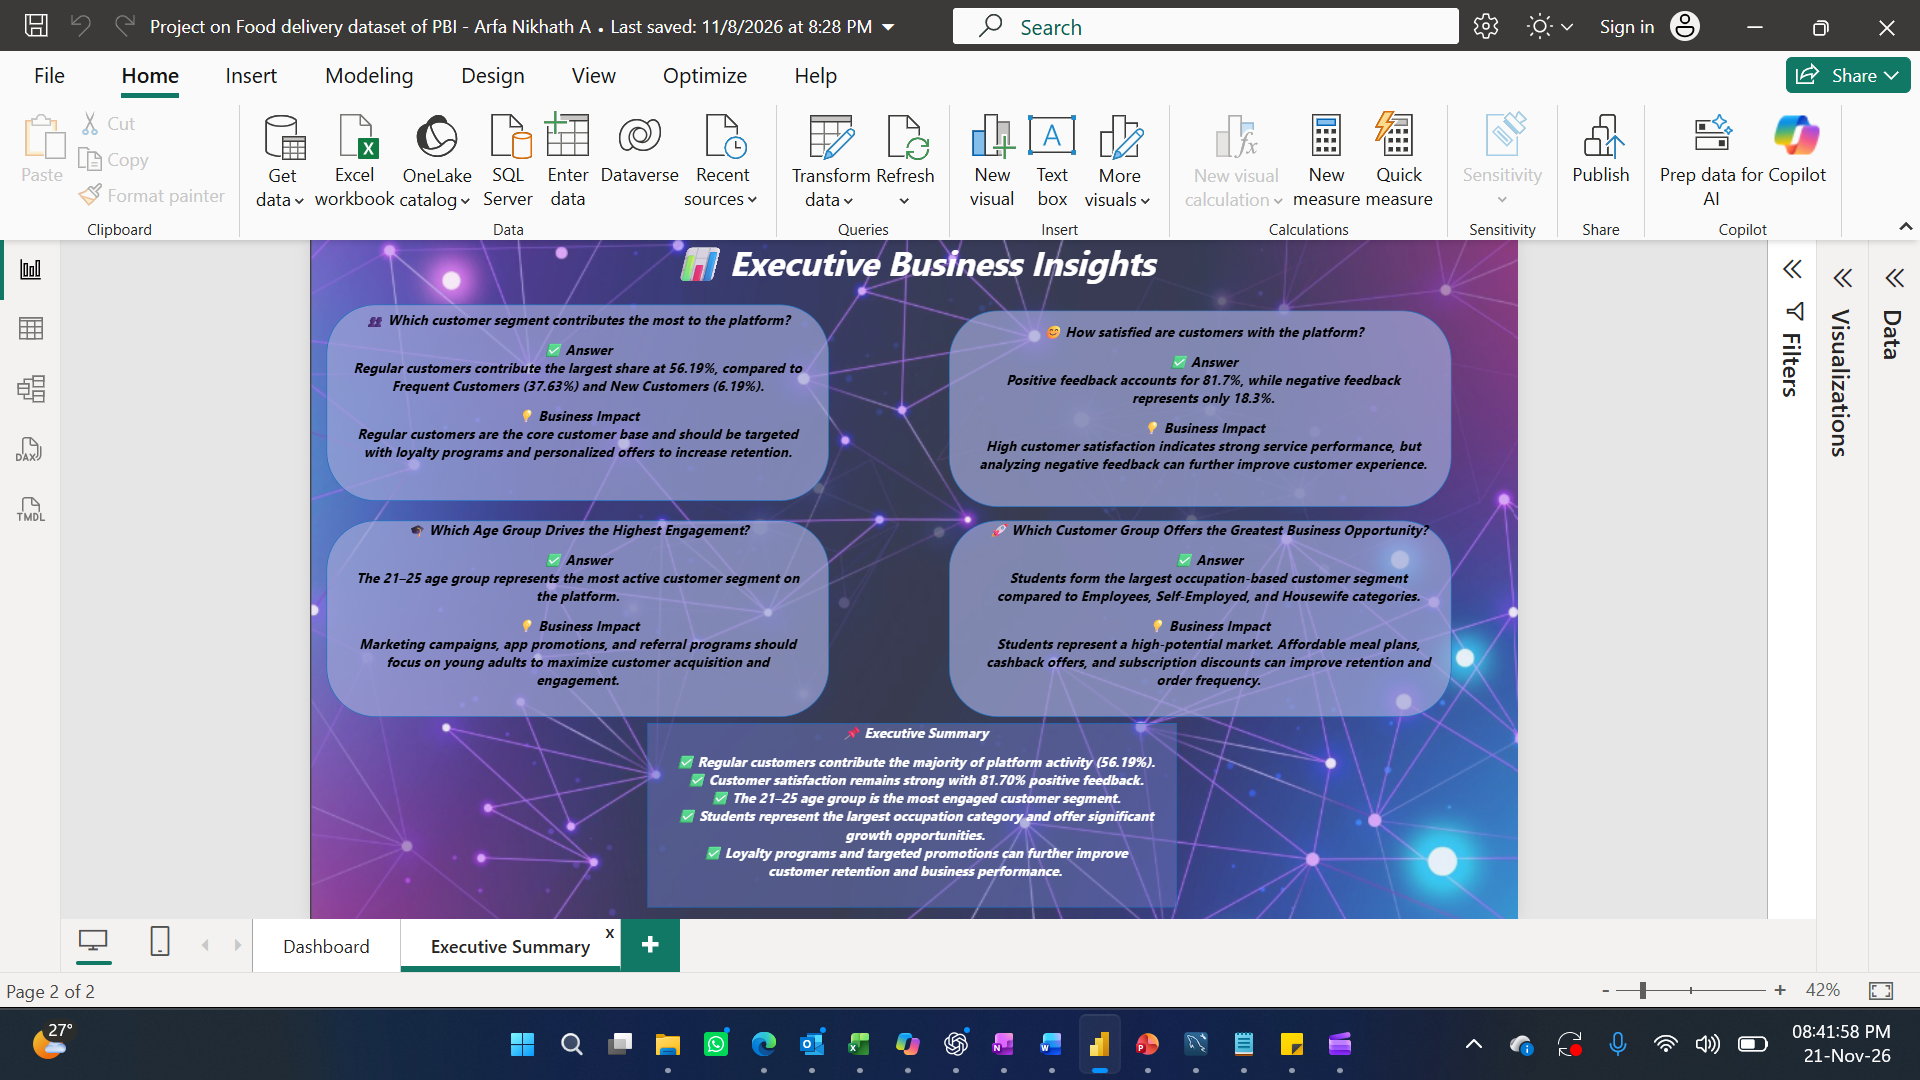

This screenshot's page, from the dashboard's own definition file:
{"tool":"powerbi","page":{"name":"Executive Summary","canvas":[1920,1080],"ordinal":1},"visuals":[{"type":"textbox","box":[26.2,0,1870.6,78.7],"z":0},{"type":"shape","box":[26.2,102.6,799.3,312.6],"z":1},{"type":"shape","box":[26.2,446.2,799.3,312.6],"z":2},{"type":"shape","box":[1016.4,446.2,799.3,312.6],"z":3},{"type":"shape","box":[1016.4,112.1,799.3,312.6],"z":4},{"type":"textbox","box":[57.3,112.1,737.2,281.5],"z":5},{"type":"textbox","box":[57.3,446.2,737.2,312.6],"z":6},{"type":"textbox","box":[1064.1,131.2,713.4,283.9],"z":7},{"type":"textbox","box":[1064.1,446.2,730.1,312.6],"z":8},{"type":"shape","box":[536.8,768.3,842.2,293.5],"z":9},{"type":"textbox","box":[579.8,768.3,765.9,293.5],"z":10}]}

Visuals, with their boxes on the page's 1920x1080 design canvas (x1, y1, x2, y2). These are canvas units, not pixel positions in the 1920x1080 screenshot, which may show the page scaled, cropped or inside an application window:
textbox: [26,0,1897,79]
shape: [26,103,826,415]
shape: [26,446,826,759]
shape: [1016,446,1816,759]
shape: [1016,112,1816,425]
textbox: [57,112,794,394]
textbox: [57,446,794,759]
textbox: [1064,131,1778,415]
textbox: [1064,446,1794,759]
shape: [537,768,1379,1062]
textbox: [580,768,1346,1062]
